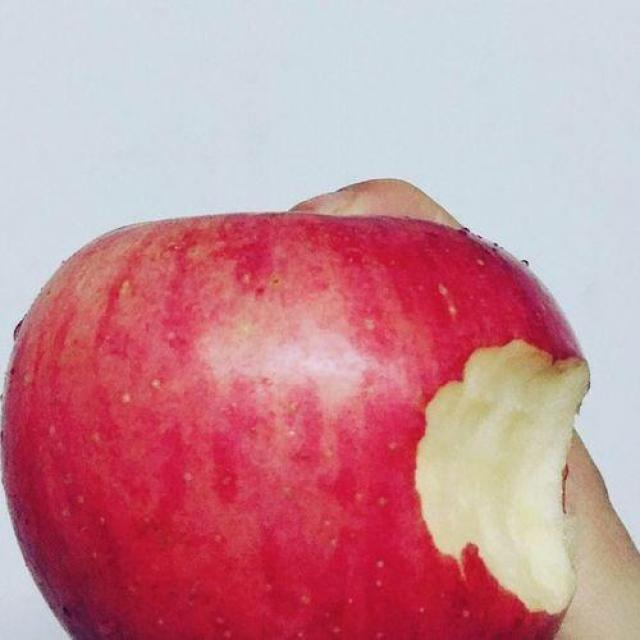Apple: (8, 205, 598, 640)
